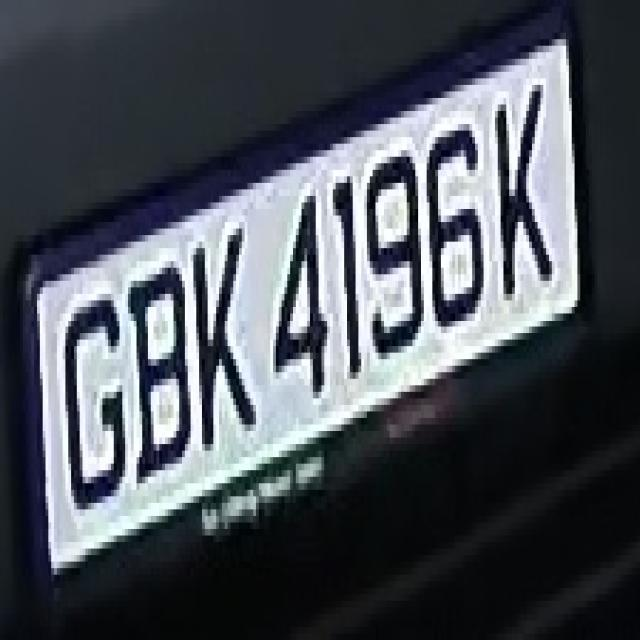1: (330, 150, 367, 398)
4: (264, 176, 333, 424)
6: (421, 98, 484, 326)
9: (356, 137, 426, 379)
B: (125, 242, 191, 496)
G: (54, 288, 128, 536)
K: (483, 72, 552, 320), (191, 222, 253, 457)
